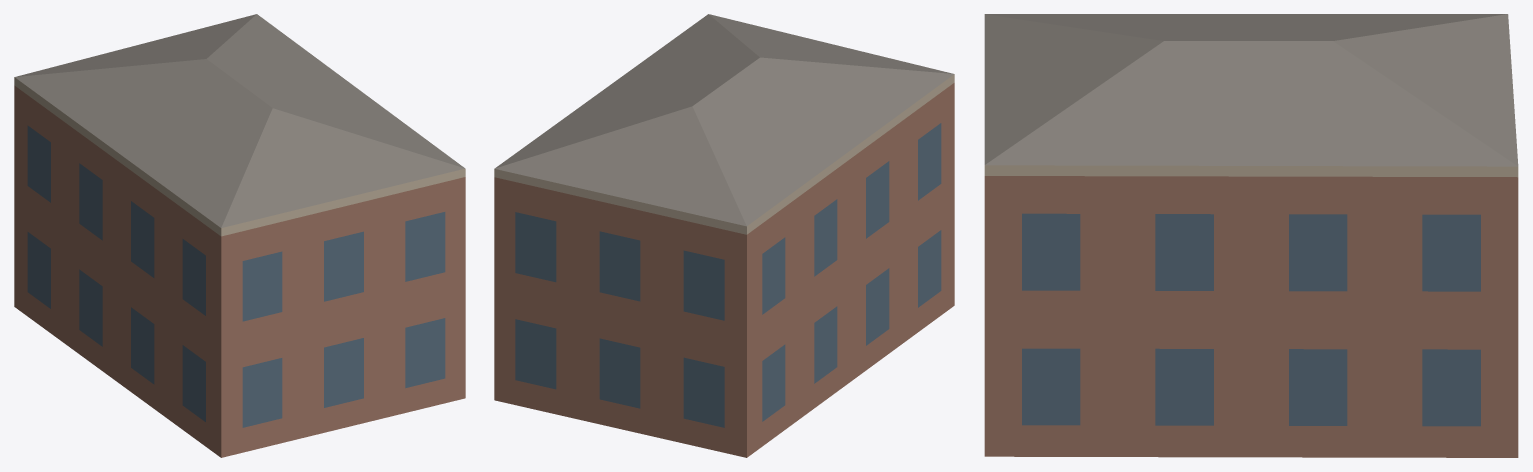
File: dc-au-jack-child-hall.glb
3 renders of one model, left to right at view 1: azimuth 30°, elevation 25°; view 2: azimuth 150°, elevation 25°; view 3: azimuth 270°, elevation 25°, orthographic. The views are drawn at different scales.
Visible parts, largest first — view 1: Jack Child Hall; view 2: Jack Child Hall; view 3: Jack Child Hall.
Part boxes in pixels (<box>): Jack Child Hall: <box>14,14,465,457</box>; Jack Child Hall: <box>494,14,954,457</box>; Jack Child Hall: <box>984,14,1518,457</box>.
Size of the model in its own units: 9.95 by 10.28 by 14.67.
